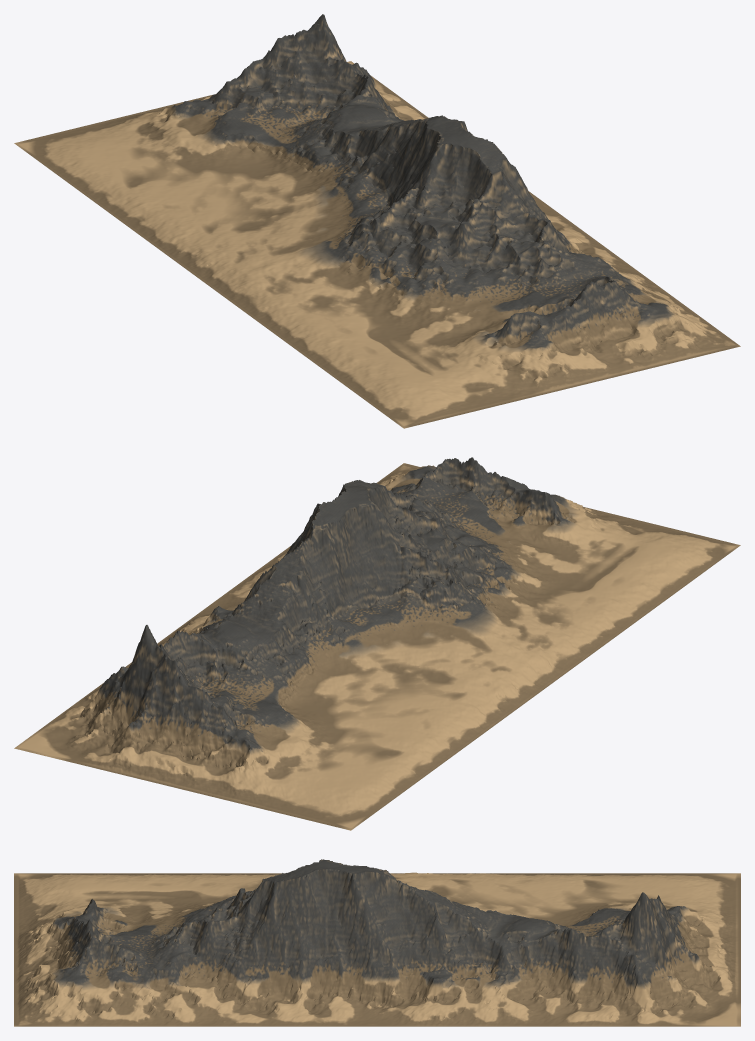
The model's file is hill.glb.
The picture shows the model from 3 angles, top to bottom: view 1: azimuth 30°, elevation 25°; view 2: azimuth 150°, elevation 25°; view 3: azimuth 270°, elevation 25°; orthographic projection. The views are drawn at different scales.
Visible parts, largest first — view 1: Object_3, Object_2, Object_4; view 2: Object_2, Object_3, Object_4; view 3: Object_2, Object_3, Object_4.
Boxes of the visible parts, x1,y1,x2,y2 form: Object_3: [168, 78, 727, 420]; Object_2: [14, 14, 740, 428]; Object_4: [152, 24, 724, 379]; Object_2: [14, 463, 740, 830]; Object_3: [185, 457, 729, 776]; Object_4: [81, 458, 597, 775]; Object_2: [14, 873, 740, 1026]; Object_3: [22, 859, 708, 1022]; Object_4: [22, 862, 730, 1021].
Size of the model in its own units: 2040 by 692 by 4088.
1 material, 1 textured.
